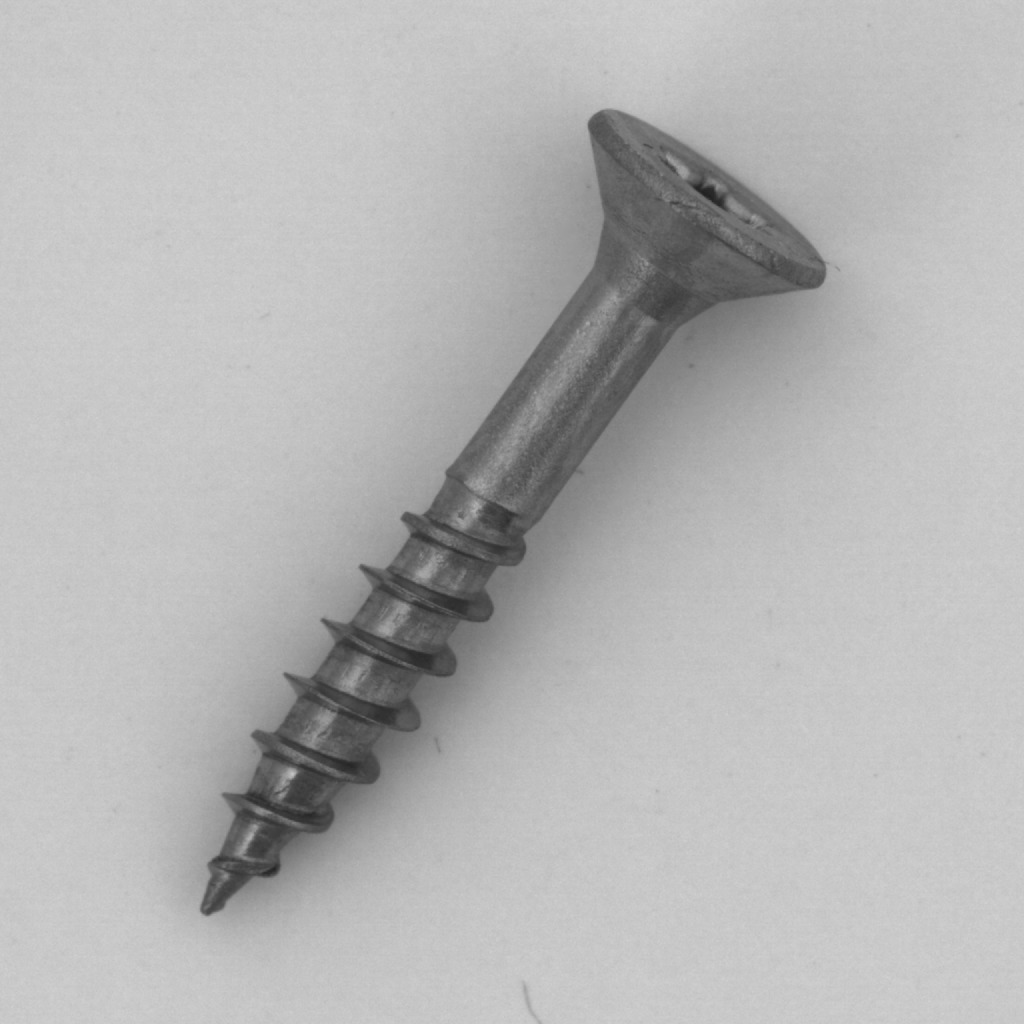good: (175, 88, 849, 928)
